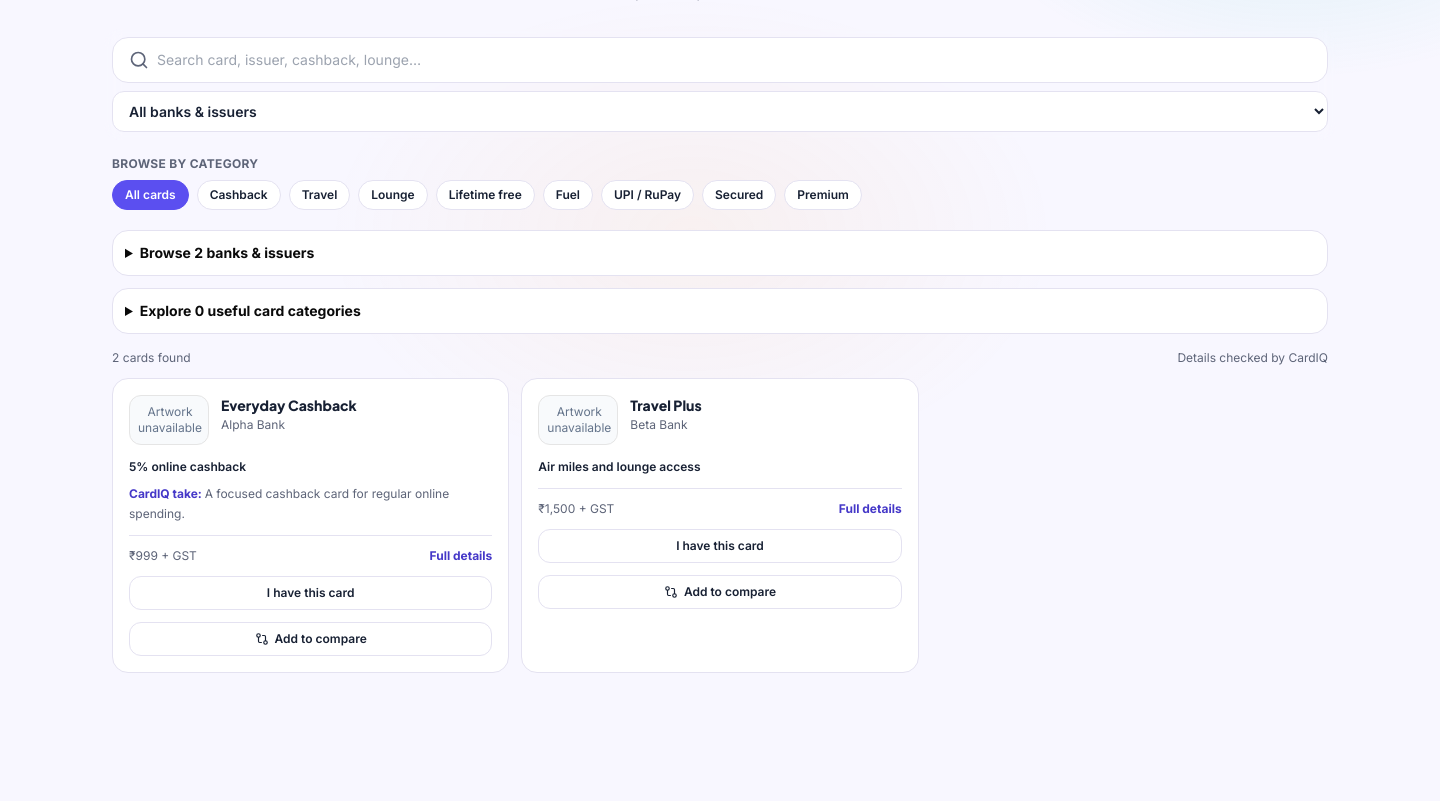
CardExplorer › lets a customer mark an existing card before comparing alternatives
(page scrolled)
Step 1. Click the button "I have this card" below "₹999 + GST" → [311, 593], box [129,576,492,610]
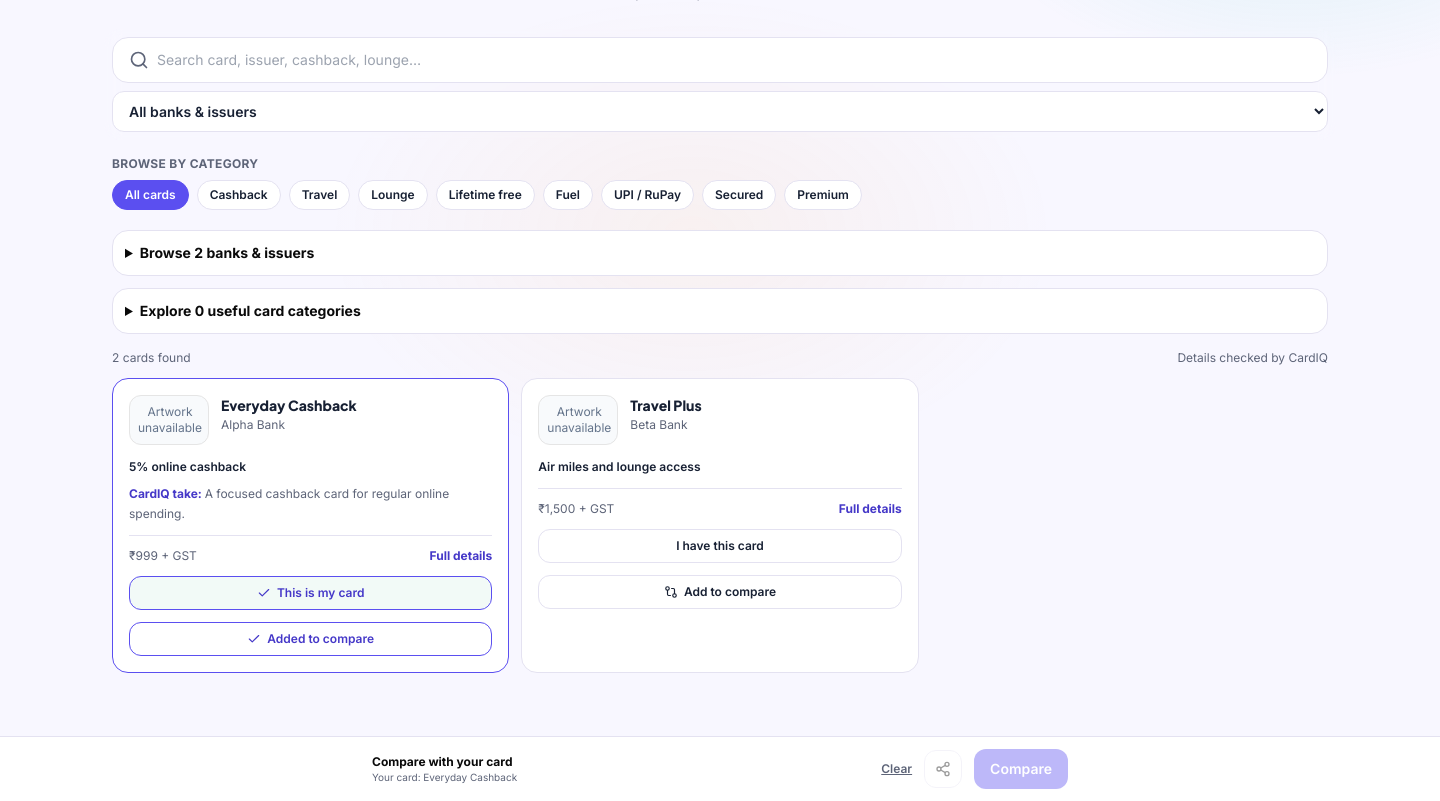
Check: the text "This is my card" is shown, box [129,576,492,610]
Check: the text "Compare with your card" is shown, box [372,754,512,768]
Check: the text "Your card: Everyday Cashback" is shown, box [372,770,517,782]
